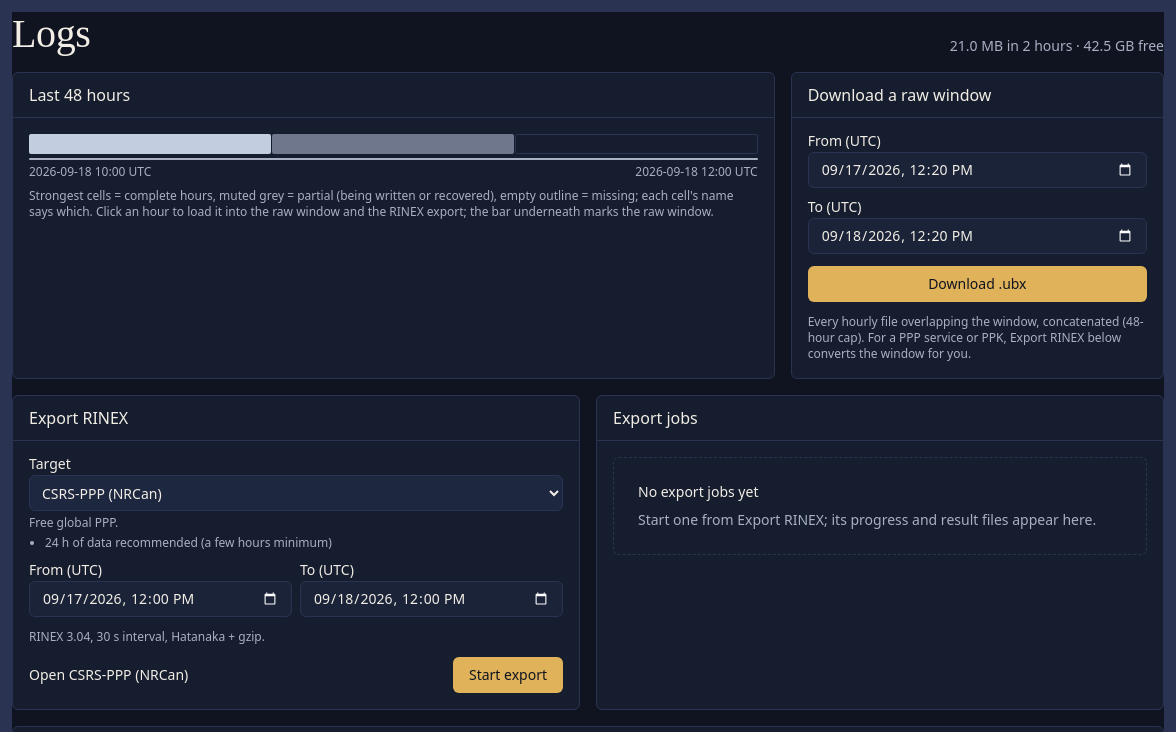
Test: Logs page — window download and availability › checks the window with the daemon first and shows a 422 detail verbatim
This screenshot has width=1176, height=732.
Expected: the field labelled "From (UTC)" below "Download a raw window" is shown, [808,152,1147,188]
Click the button "Download .ubx".
click(977, 284)  # box [808,266,1147,302]
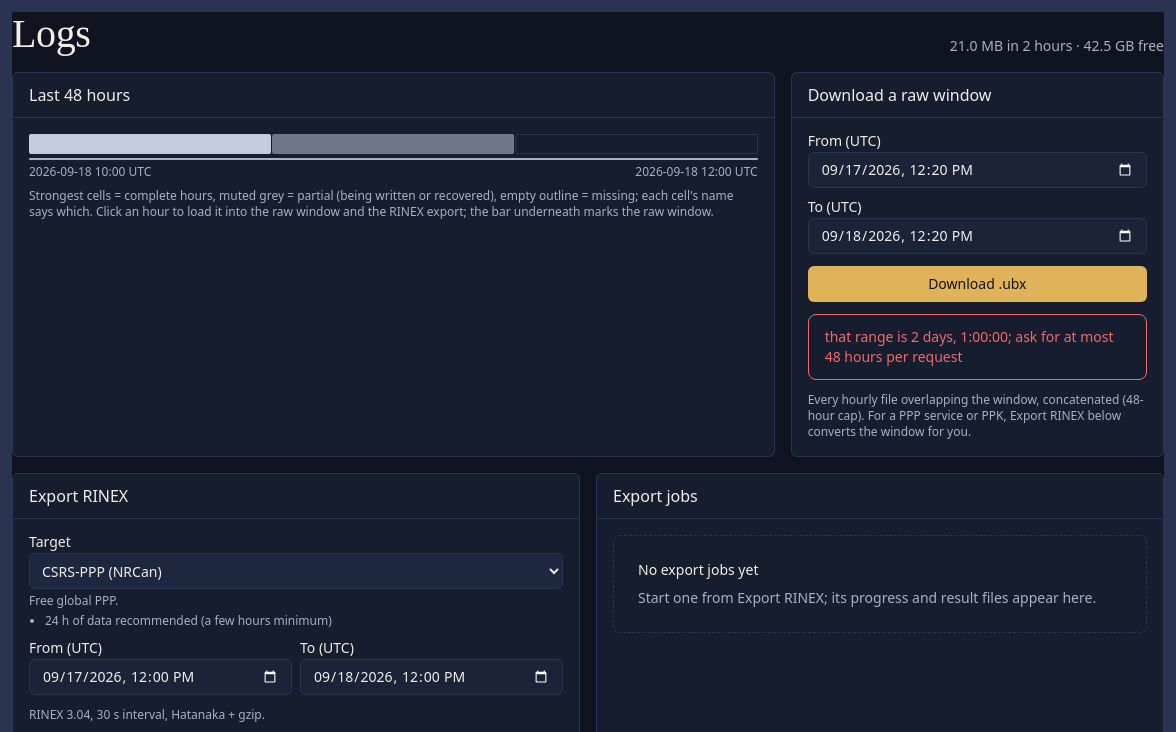
Now the message reads "that range is 2 days, 1:00:00; ask for at most 48 hours per request", box [825,327,1114,366]
